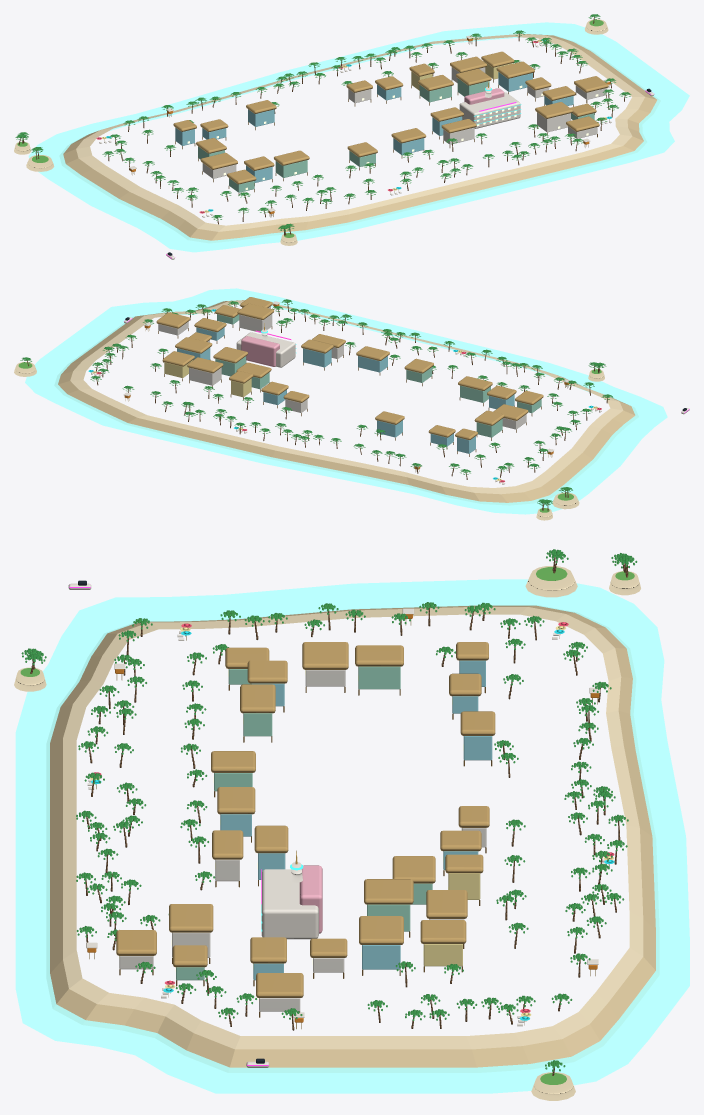
Rendered from by_atol.glb.
The picture shows the model from 3 angles, top to bottom: view 1: azimuth 30°, elevation 25°; view 2: azimuth 150°, elevation 25°; view 3: azimuth 270°, elevation 25°; orthographic projection. The views are drawn at different scales.
Visible parts, largest first — view 1: Lavt vand_net, Byen_net, Stranden_net, Palmer_net, Hotellet_net, Holme_net; view 2: Lavt vand_net, Byen_net, Stranden_net, Palmer_net, Hotellet_net, Holme_net; view 3: Lavt vand_net, Stranden_net, Byen_net, Palmer_net, Hotellet_net, Holme_net, Holmtraer_net.
Part boxes in pixels (left/top/right/bottom): Lavt vand_net: left=28, top=22, right=689, bottom=252; Byen_net: left=173, top=51, right=608, bottom=194; Stranden_net: left=63, top=34, right=658, bottom=241; Palmer_net: left=102, top=30, right=631, bottom=224; Hotellet_net: left=459, top=81, right=521, bottom=128; Holme_net: left=14, top=19, right=608, bottom=245; Lavt vand_net: left=25, top=288, right=667, bottom=514; Byen_net: left=156, top=297, right=543, bottom=456; Stranden_net: left=58, top=300, right=636, bottom=504; Palmer_net: left=90, top=299, right=613, bottom=479; Hotellet_net: left=236, top=323, right=296, bottom=367; Holme_net: left=14, top=362, right=604, bottom=520; Lavt vand_net: left=15, top=579, right=689, bottom=1093; Stranden_net: left=47, top=605, right=658, bottom=1072; Byen_net: left=116, top=642, right=495, bottom=1017; Palmer_net: left=76, top=602, right=628, bottom=1030; Hotellet_net: left=261, top=850, right=322, bottom=939; Holme_net: left=14, top=566, right=640, bottom=1100; Holmtraer_net: left=21, top=549, right=637, bottom=1075.
Size of the model in its own units: 97.78 by 7.2 by 53.2.
